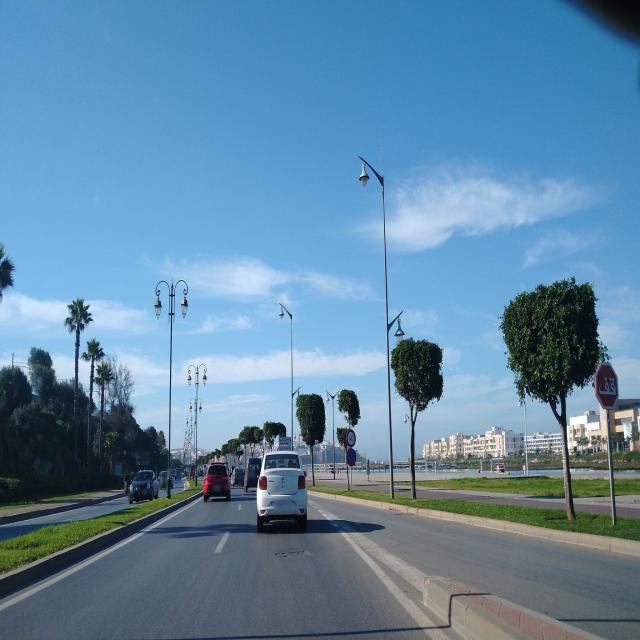forb_stopping: (346, 447, 357, 468)
